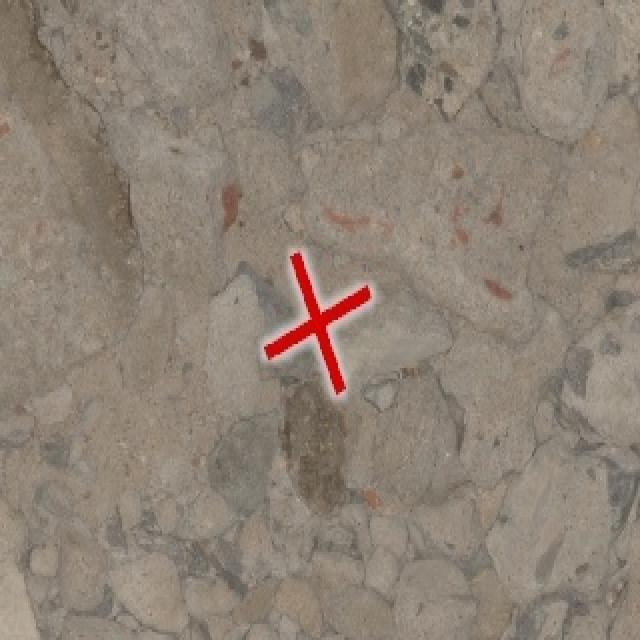x_marker: (263, 252, 371, 393)
